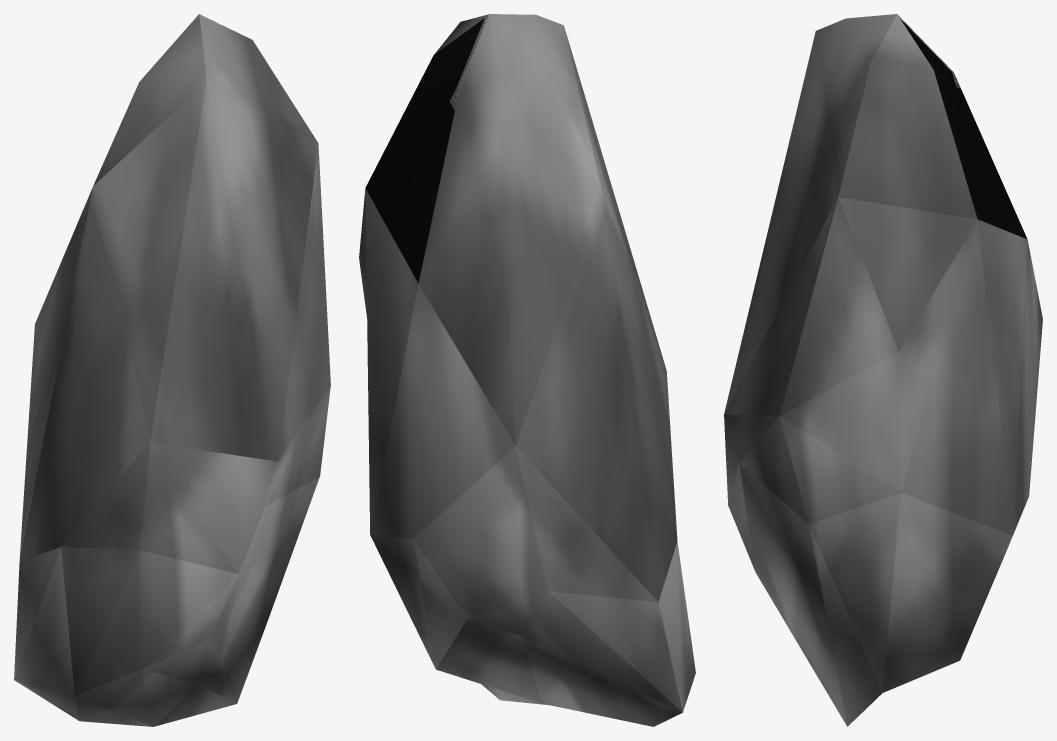
The model's file is obelisk.glb.
The picture shows the model from 3 angles, left to right: view 1: azimuth 30°, elevation 25°; view 2: azimuth 150°, elevation 25°; view 3: azimuth 270°, elevation 25°; orthographic projection. The views are drawn at different scales.
Visible parts, largest first — view 1: Icosphere; view 2: Icosphere; view 3: Icosphere.
Boxes of the visible parts, x1=… form: Icosphere: x1=14, y1=14, x2=330, y2=726; Icosphere: x1=359, y1=14, x2=695, y2=726; Icosphere: x1=724, y1=14, x2=1042, y2=726.
Bounding box in the file's own units: 4.7 × 9.83 × 4.03.
Materials: 1 (1 with a texture image).
